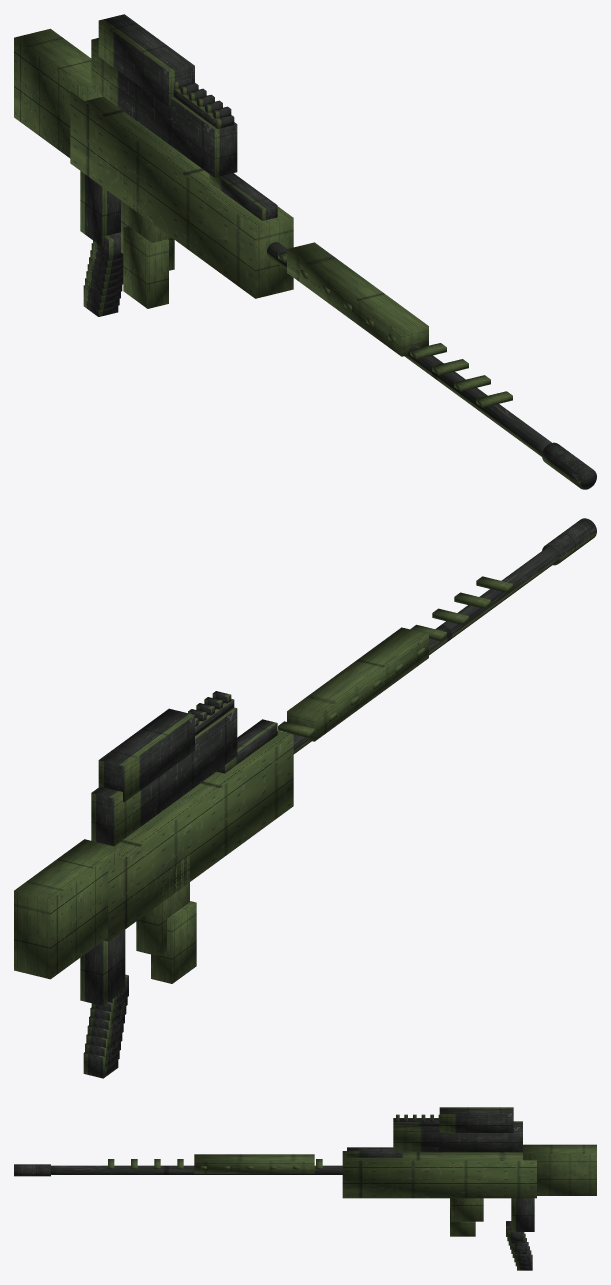
Rendered from aug.glb.
3 renders of one model, top to bottom at view 1: azimuth 30°, elevation 25°; view 2: azimuth 150°, elevation 25°; view 3: azimuth 270°, elevation 25°, orthographic. The views are drawn at different scales.
Parts seen in each view (by area): view 1: aug; view 2: aug; view 3: aug.
Boxes of the visible parts, x1,y1,x2,y2 form: aug: (14, 14, 596, 489); aug: (14, 518, 596, 1078); aug: (14, 1107, 596, 1270).
Bounding box in the file's own units: 0.057 × 0.3755 × 1.26.
1 material, 1 textured.
